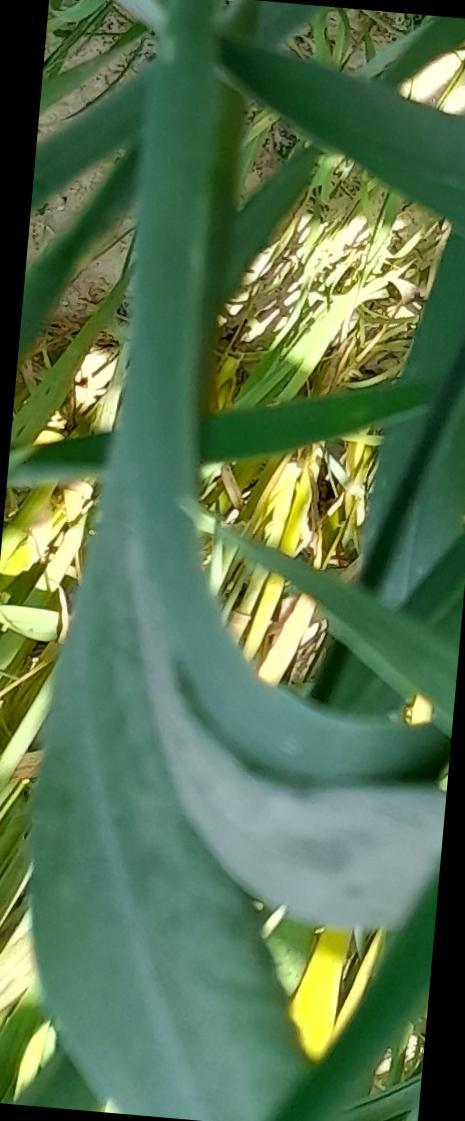Wheat: (62, 890, 253, 1080), (55, 698, 269, 841), (104, 474, 193, 666), (142, 232, 196, 447), (147, 50, 217, 204)
